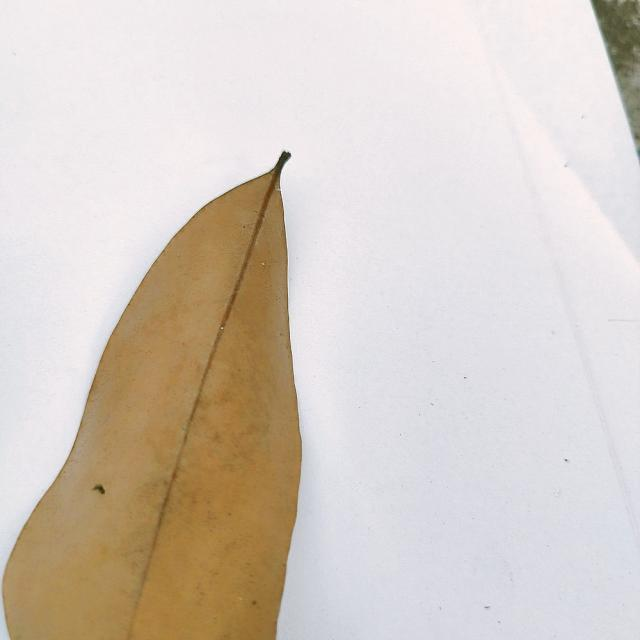Dry_Leaf-Lychee: (0, 154, 303, 639)
